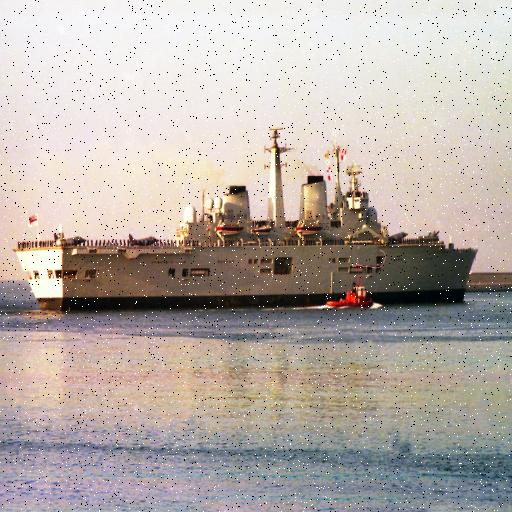Portanaves: (9, 127, 482, 312)
